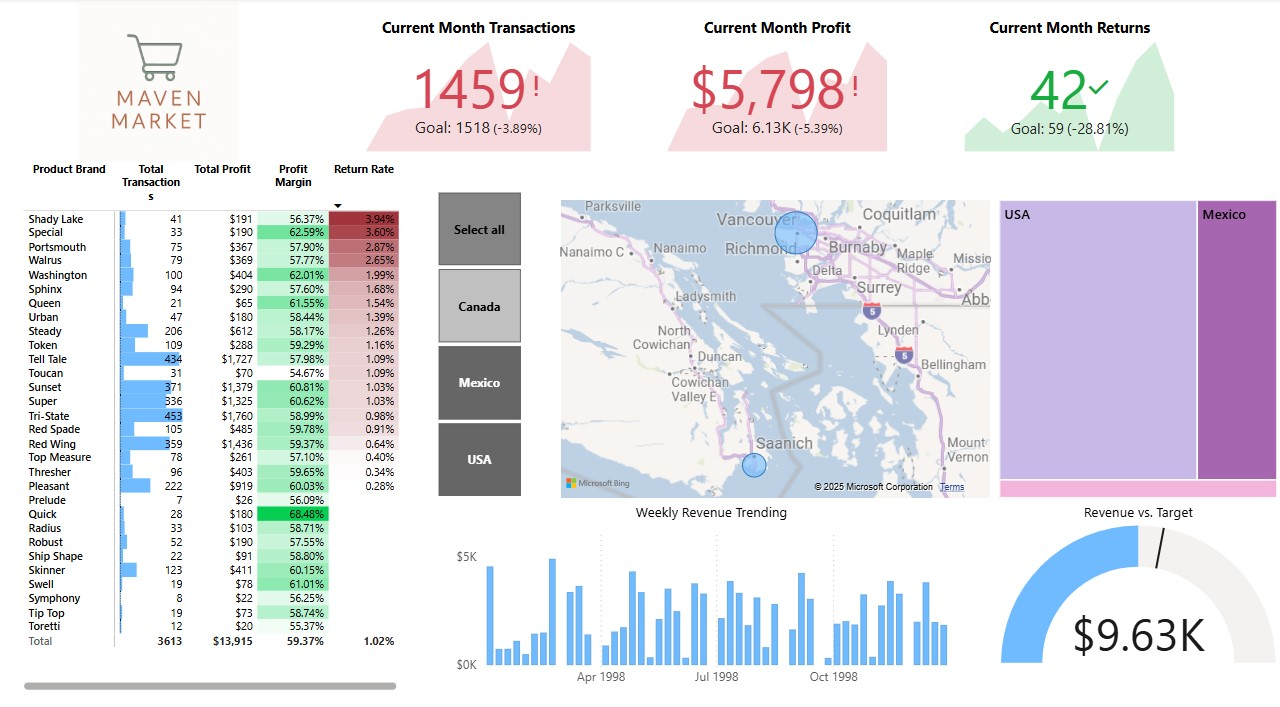

This screenshot's page, from the dashboard's own definition file:
{"tool":"powerbi","page":{"name":"Topline Performance","canvas":[1280,720],"ordinal":0},"visuals":[{"type":"kpi","title":"Current Month Transactions ","fields":{"TrendLine":["Calendar.Start of Month"],"Indicator":["Transaction_data.Total Transactions"],"Goal":["Transaction_data.Last Month Transactions"]},"box":[363.2,18.7,233.9,139.3],"z":0},{"type":"kpi","title":"Current Month Profit","fields":{"TrendLine":["Calendar.Start of Month"],"Indicator":["Transaction_data.Total Profit"],"Goal":["Transaction_data.Last Month Profit"]},"box":[663.7,18.7,228.9,139.3],"z":1000},{"type":"kpi","title":"Current Month Returns","fields":{"TrendLine":["Calendar.Start of Month"],"Goal":["Return_data.Last Month Returns"],"Indicator":["Return_data.Total Returns"]},"box":[959.1,18.7,218.9,139.3],"z":2000},{"type":"image","box":[10,0,303.5,167.9],"z":3000},{"type":"pivotTable","fields":{"Values":["Transaction_data.Total Transactions","Transaction_data.Total Profit","Transaction_data.Profit Margin","Return_data.Return Rate"],"Rows":["Products.product_brand"]},"box":[22.4,158,383.1,536.1],"z":4000},{"type":"map","fields":{"Category":["Stores.City"],"Size":["Transaction_data.Total Transactions"]},"box":[557.3,196.5,436.6,306],"z":5000},{"type":"slicer","fields":{"Values":["Stores.Country/Region"]},"box":[414.2,186.6,131.9,316],"z":6000},{"type":"treemap","fields":{"Group":["Stores.Country/Region","Stores.State","Stores.City"],"Values":["Transaction_data.Total Transactions"]},"box":[993.9,196.5,286.1,306],"z":7000},{"type":"columnChart","title":"Weekly Revenue Trending","fields":{"Y":["Transaction_data.Total Revenue"],"Category":["Calendar.Start of Week"]},"box":[450.3,502.6,523.7,191.6],"z":8000},{"type":"gauge","title":"Revenue vs. Target","fields":{"Y":["Transaction_data.Total Revenue"],"TargetValue":["Transaction_data.Revenue Target"]},"box":[993.9,502.6,286.1,164.2],"z":8001}]}

Visuals, with their boxes in screenshot pixels (x1, y1, x2, y2), scaled from the page's 1280x720 canvas onto the 1280x707 screenshot:
"Current Month Transactions " kpi: (x1=363, y1=18, x2=597, y2=155)
"Current Month Profit" kpi: (x1=664, y1=18, x2=893, y2=155)
"Current Month Returns" kpi: (x1=959, y1=18, x2=1178, y2=155)
image: (x1=10, y1=0, x2=314, y2=165)
pivotTable - Transaction_data.Total Transactions x Transaction_data.Total Profit: (x1=22, y1=155, x2=406, y2=682)
map - Stores.City x Transaction_data.Total Transactions: (x1=557, y1=193, x2=994, y2=493)
slicer - Stores.Country/Region: (x1=414, y1=183, x2=546, y2=494)
treemap - Stores.Country/Region x Stores.State: (x1=994, y1=193, x2=1279, y2=493)
"Weekly Revenue Trending" columnChart: (x1=450, y1=494, x2=974, y2=682)
"Revenue vs. Target" gauge: (x1=994, y1=494, x2=1279, y2=655)
